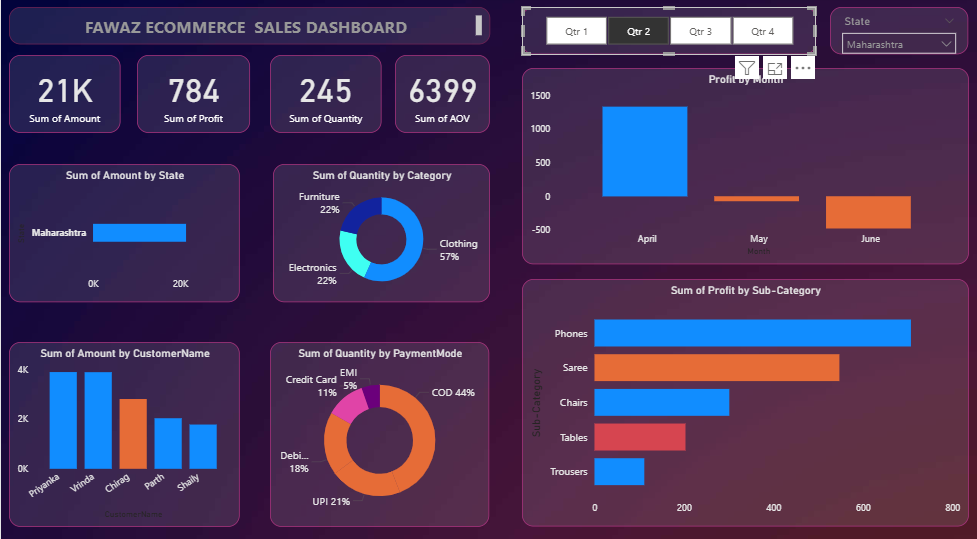

What the dashboard file says about the page in this screenshot:
{"tool":"powerbi","page":{"name":"Page 1","canvas":[1280,720],"ordinal":0},"visuals":[{"type":"textbox","box":[10.1,13.4,629.9,48.7],"z":0},{"type":"columnChart","title":"Profit by Month","fields":{"Y":["Details.Profit"],"Category":["Orders.Order Date.Variation.Date Hierarchy.Month"]},"box":[682,92.4,584.6,257],"z":1000},{"type":"barChart","fields":{"Category":["Details.Sub-Category"],"Y":["Details.Profit"]},"box":[682,369.6,584.6,324.2],"z":2000},{"type":"donutChart","fields":{"Category":["Details.Category"],"Y":["Details.Quantity"]},"box":[356.1,218.4,283.9,181.4],"z":3000},{"type":"donutChart","fields":{"Y":["Details.Quantity"],"Category":["Details.PaymentMode"]},"box":[352.8,451.9,287.2,241.9],"z":4000},{"type":"card","fields":{"Values":["Details.Amount"]},"box":[10.1,75.6,146.1,102.5],"z":5000},{"type":"card","fields":{"Values":["Details.Profit"]},"box":[178.1,75.6,147.8,102.5],"z":6000},{"type":"card","fields":{"Values":["Details.AOV"]},"box":[515.7,75.6,124.3,102.5],"z":7000},{"type":"card","fields":{"Values":["Details.Quantity"]},"box":[352.8,75.6,146.1,102.5],"z":8000},{"type":"barChart","title":"Sum of Amount by State","fields":{"Category":["Orders.State"],"Y":["Details.Amount"]},"box":[10.1,218.4,302.4,181.4],"z":9000},{"type":"columnChart","fields":{"Category":["Orders.CustomerName"],"Y":["Details.Amount"]},"box":[10.1,451.9,302.4,241.9],"z":10000},{"type":"slicer","fields":{"Values":["Orders.Order Date.Variation.Date Hierarchy.Quarter"]},"box":[682,13.4,384.7,62.2],"z":11000},{"type":"slicer","fields":{"Values":["Orders.State"]},"box":[1085.1,13.4,181.4,62.2],"z":12000}]}

Visuals, with their boxes in screenshot pixels (x1, y1, x2, y2), scaled from the page's 1280x720 canvas onto the 977x539 screenshot:
textbox: [left=8, top=10, right=488, bottom=46]
"Profit by Month" columnChart: [left=521, top=69, right=967, bottom=262]
barChart - Details.Sub-Category x Details.Profit: [left=521, top=277, right=967, bottom=519]
donutChart - Details.Category x Details.Quantity: [left=272, top=163, right=488, bottom=299]
donutChart - Details.Quantity x Details.PaymentMode: [left=269, top=338, right=488, bottom=519]
card - Details.Amount: [left=8, top=57, right=119, bottom=133]
card - Details.Profit: [left=136, top=57, right=249, bottom=133]
card - Details.AOV: [left=394, top=57, right=488, bottom=133]
card - Details.Quantity: [left=269, top=57, right=381, bottom=133]
"Sum of Amount by State" barChart: [left=8, top=163, right=239, bottom=299]
columnChart - Orders.CustomerName x Details.Amount: [left=8, top=338, right=239, bottom=519]
slicer - Orders.Order Date.Variation.Date Hierarchy.Quarter: [left=521, top=10, right=814, bottom=57]
slicer - Orders.State: [left=828, top=10, right=967, bottom=57]
